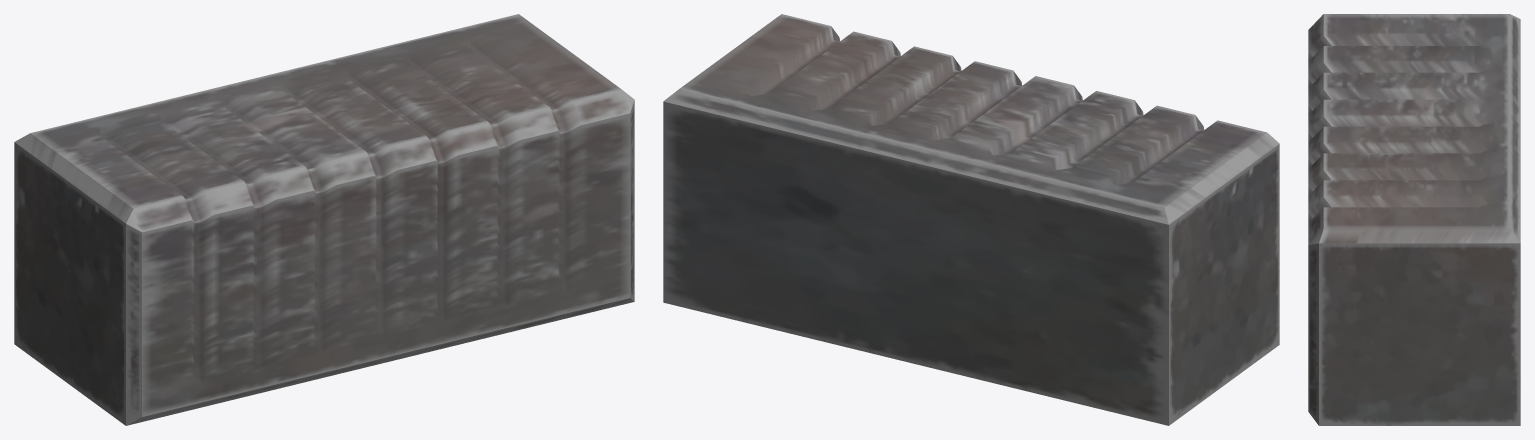
Rendered from snow_mitame_drain.fbx.
3 views of the same model, side by side, from view 1: azimuth 30°, elevation 25°; view 2: azimuth 150°, elevation 25°; view 3: azimuth 270°, elevation 25° (orthographic). The views are drawn at different scales.
Visible parts, largest first — view 1: snowy_drain; view 2: snowy_drain; view 3: snowy_drain.
Part boxes in pixels (bbox=[...]): snowy_drain: bbox=[14, 14, 634, 425]; snowy_drain: bbox=[663, 14, 1279, 425]; snowy_drain: bbox=[1308, 14, 1520, 425].
Size of the model in its own units: 100 by 40 by 40.
